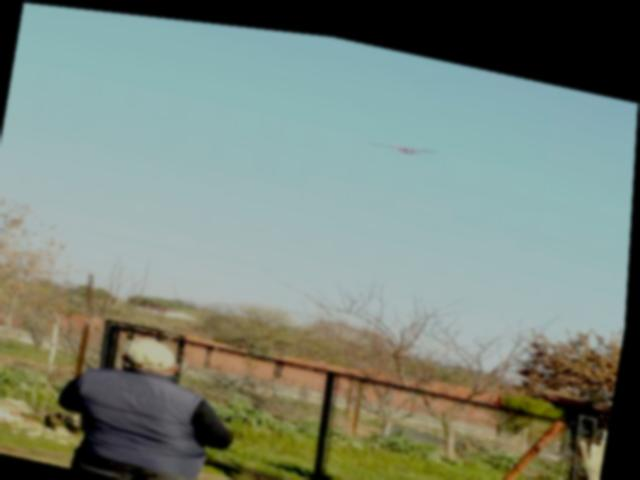iha: (369, 128, 438, 149)
